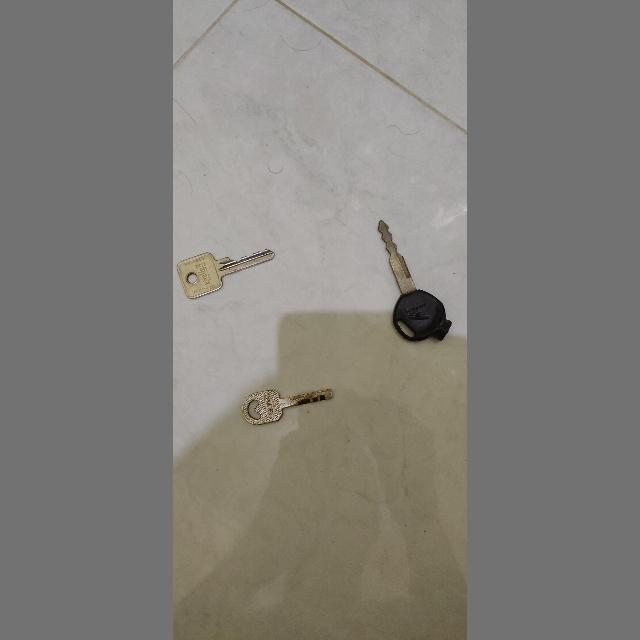Keys: (372, 214, 456, 346), (175, 242, 283, 310), (246, 378, 338, 429)
